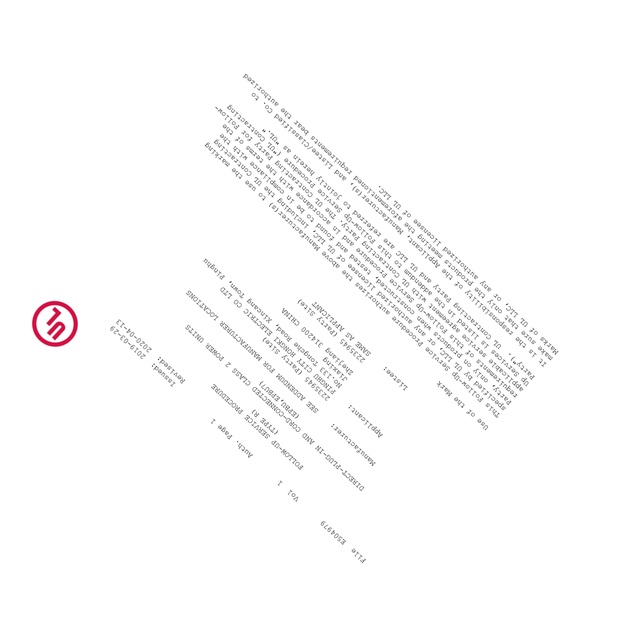ul: (32, 300, 78, 346)
